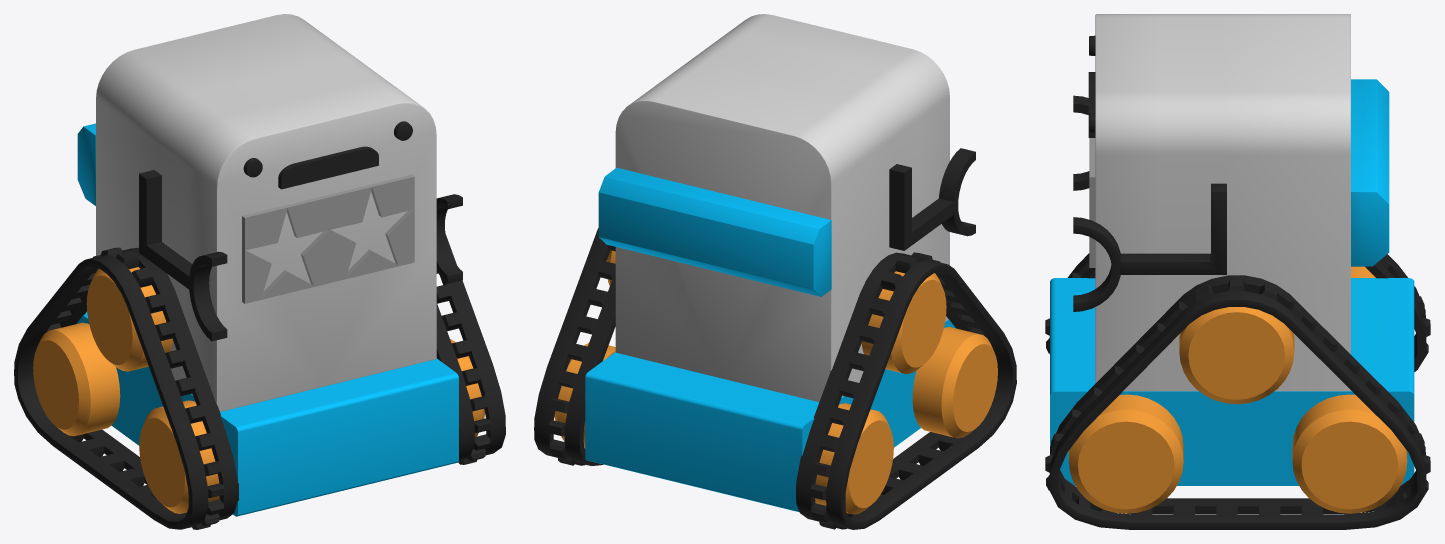
File: comrobo2_ver3.glb
3 views of the same model, side by side, from view 1: azimuth 30°, elevation 25°; view 2: azimuth 150°, elevation 25°; view 3: azimuth 270°, elevation 25° (orthographic). The views are drawn at different scales.
Parts seen in each view (by area): view 1: 立方体.001, 平面, 立方体, 立方体.005, 円.006, 円.005, 円.002, 立方体.002, 立方体.004, 円.001, 円.003, 平面.001 (+1 smaller); view 2: 立方体.001, 平面, 立方体, 平面.001, 円.005, 円.006, 円.002, 立方体.002, 円.001; view 3: 立方体.001, 平面, 立方体, 円.006, 円.005, 円.002, 平面.001, 立方体.003, 円.003, 立方体.005, 円.001.
Boxes of the visible parts, x1,y1,x2,y2 form: 立方体.001: (96, 14, 436, 411); 平面: (14, 233, 505, 529); 立方体: (76, 311, 458, 516); 立方体.005: (242, 174, 414, 303); 円.006: (33, 322, 120, 436); 円.005: (139, 339, 484, 513); 円.002: (86, 267, 173, 371); 立方体.002: (139, 170, 192, 289); 立方体.004: (278, 146, 378, 189); 円.001: (189, 251, 227, 341); 円.003: (436, 194, 462, 283); 平面.001: (77, 123, 95, 205); 立方体.001: (615, 14, 949, 401); 平面: (534, 228, 1016, 529); 立方体: (585, 319, 955, 512); 平面.001: (598, 167, 831, 296); 円.005: (912, 327, 997, 438); 円.006: (554, 343, 893, 514); 円.002: (607, 250, 946, 374); 立方体.002: (889, 164, 953, 250); 円.001: (939, 148, 975, 236); 立方体.001: (1095, 14, 1350, 391); 平面: (1045, 253, 1430, 529); 立方体: (1050, 278, 1414, 485); 円.006: (1292, 266, 1407, 513); 円.005: (1068, 394, 1183, 513); 円.002: (1179, 307, 1294, 404); 平面.001: (1351, 79, 1389, 266); 立方体.003: (1120, 183, 1226, 274); 円.003: (1073, 217, 1120, 311); 立方体.005: (1089, 138, 1095, 267); 円.001: (1073, 95, 1089, 190).
Bounding box in the file's own units: 0.8388 × 0.9651 × 0.8471.
